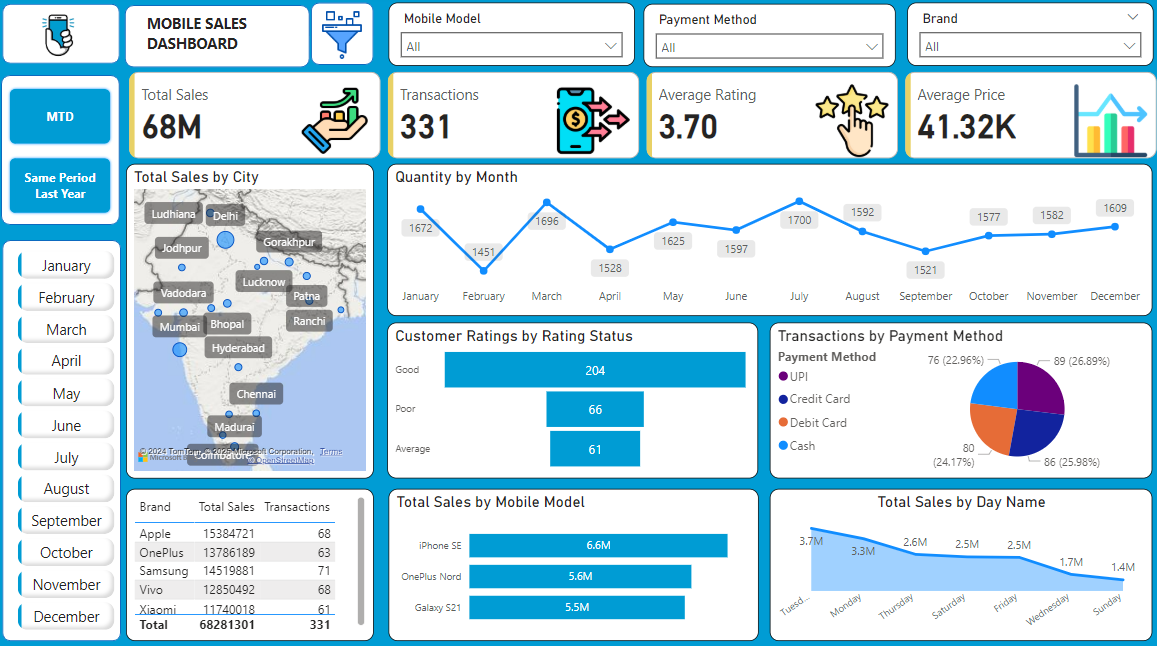

This screenshot's page, from the dashboard's own definition file:
{"tool":"powerbi","page":{"name":"Dashboard","canvas":[1280,720],"ordinal":0},"visuals":[{"type":"shape","box":[345.8,8.2,68.6,68.6],"z":0,"group":"g2"},{"type":"shape","box":[6.9,9.6,129,65.9],"z":0},{"type":"group","id":"g1","title":"Group 1","box":[8.2,9.6,120.8,68.6],"z":1000},{"type":"image","box":[345.8,12.3,68.6,63.1],"z":1000,"group":"g2"},{"type":"shape","box":[5.5,87.8,130.4,164.7],"z":2000},{"type":"shape","box":[6.9,269,130.4,440.5],"z":3000},{"type":"image","box":[8.2,9.6,120.8,68.6],"z":4000,"group":"g1"},{"type":"listSlicer","fields":{"Values":["Calender_table.Date.Variation.Date Hierarchy.Month"]},"box":[19.2,275.8,116.6,433.6],"z":4000},{"type":"cardVisual","fields":{"Data":["Sales_data.Total Sales","Calender_table.Transactions","Avg(Sales_data.Customer Ratings)","Avg(Sales_data.Price Per Unit)"]},"box":[141.3,79.6,1129.3,105.7],"z":5000},{"type":"slicer","fields":{"Values":["Sales_data.Mobile Model"]},"box":[430.9,8.2,270.3,70],"z":6000},{"type":"slicer","fields":{"Values":["Sales_data.Payment Method"]},"box":[710.8,9.6,277.2,70],"z":7000},{"type":"slicer","fields":{"Values":["Sales_data.Brand"]},"box":[1000.3,8.2,270.3,70],"z":8000},{"type":"group","id":"g2","title":"Group 2","box":[345.8,8.2,68.6,68.6],"z":9000},{"type":"shape","box":[141.3,11,203.1,68.6],"z":10000},{"type":"textbox","box":[160.5,15.1,164.7,53.5],"z":11000},{"type":"map","fields":{"Category":["Sales_data.City"],"Size":["Sales_data.Total Sales"]},"box":[142.7,185.2,271.7,345.8],"z":12000},{"type":"lineChart","fields":{"Category":["Calender_table.Date.Variation.Date Hierarchy.Year","Calender_table.Date.Variation.Date Hierarchy.Month"],"Y":["Sum(Sales_data.Units Sold)"]},"box":[429.5,185.2,839.8,167.4],"z":13000},{"type":"funnel","fields":{"Y":["CountNonNull(Sales_data.Customer Ratings)"],"Category":["Sales_data.Rating Status"]},"box":[429.5,359.5,407.5,171.5],"z":14000},{"type":"pieChart","fields":{"Category":["Sales_data.Payment Method"],"Y":["CountNonNull(Sales_data.Transaction ID)"]},"box":[849.4,359.5,419.9,171.5],"z":15000},{"type":"clusteredBarChart","fields":{"Y":["Sales_data.Total Sales"],"Category":["Sales_data.Mobile Model"]},"box":[430.9,542,406.2,167.4],"z":16000},{"type":"areaChart","fields":{"Y":["Sales_data.Total Sales"],"Category":["Calender_table.Day Name"]},"box":[849.4,542,419.9,167.4],"z":17000},{"type":"tableEx","fields":{"Values":["Sales_data.Brand","Sales_data.Total Sales","CountNonNull(Sales_data.Transaction ID)"]},"box":[142.7,542,271.7,167.4],"z":18000},{"type":"pageNavigator","box":[12.3,100.2,116.6,142.7],"z":18001}]}

Visuals, with their boxes in screenshot pixels (x1, y1, x2, y2), scaled from the page's 1280x720 canvas onto the 1157x646 screenshot:
shape: 313:7:375:69
shape: 6:9:123:68
"Group 1" group: 7:9:117:70
image: 313:11:375:68
shape: 5:79:123:227
shape: 6:241:124:637
image: 7:9:117:70
listSlicer - Calender_table.Date.Variation.Date Hierarchy.Month: 17:247:123:636
cardVisual - Sales_data.Total Sales x Calender_table.Transactions: 128:71:1149:166
slicer - Sales_data.Mobile Model: 389:7:634:70
slicer - Sales_data.Payment Method: 642:9:893:71
slicer - Sales_data.Brand: 904:7:1149:70
"Group 2" group: 313:7:375:69
shape: 128:10:311:71
textbox: 145:14:294:62
map - Sales_data.City x Sales_data.Total Sales: 129:166:375:476
lineChart - Calender_table.Date.Variation.Date Hierarchy.Year x Calender_table.Date.Variation.Date Hierarchy.Month: 388:166:1147:316
funnel - CountNonNull(Sales_data.Customer Ratings) x Sales_data.Rating Status: 388:323:757:476
pieChart - Sales_data.Payment Method x CountNonNull(Sales_data.Transaction ID): 768:323:1147:476
clusteredBarChart - Sales_data.Total Sales x Sales_data.Mobile Model: 389:486:757:636
areaChart - Sales_data.Total Sales x Calender_table.Day Name: 768:486:1147:636
tableEx - Sales_data.Brand x Sales_data.Total Sales: 129:486:375:636
pageNavigator: 11:90:117:218
